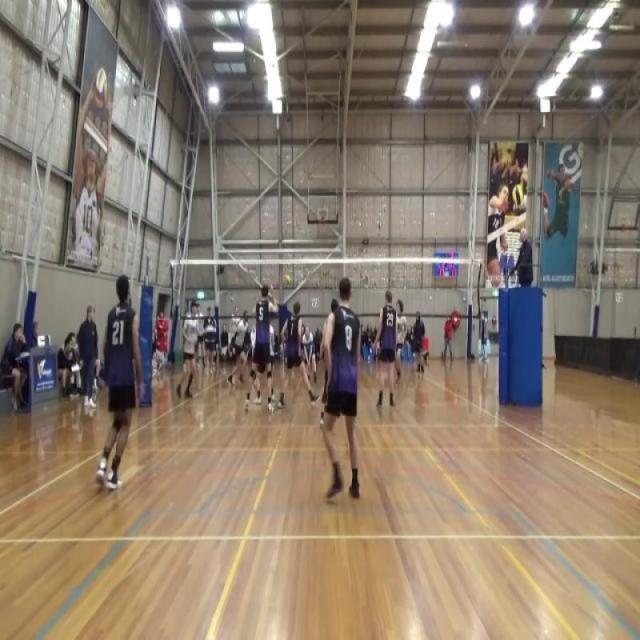volleyball: (93, 70, 107, 113), (511, 182, 524, 207), (281, 273, 292, 289)
